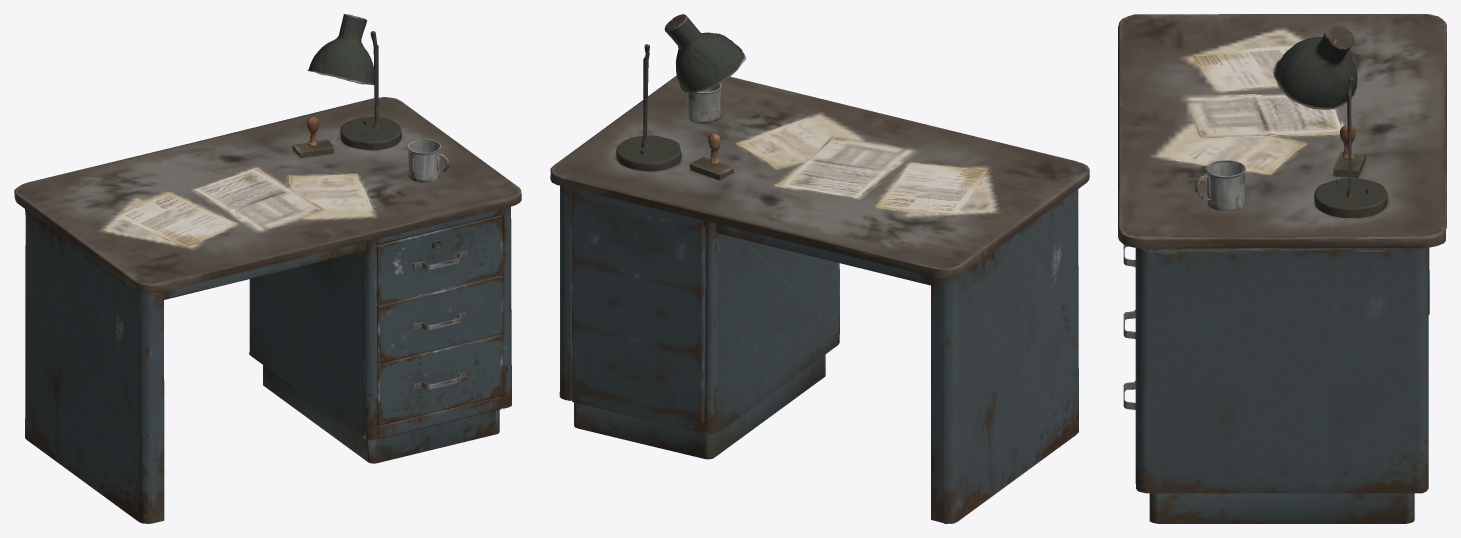
Rendered from silo81_desk.glb.
3 views of the same model, side by side, from view 1: azimuth 30°, elevation 25°; view 2: azimuth 150°, elevation 25°; view 3: azimuth 270°, elevation 25° (orthographic). The views are drawn at different scales.
Bounding box in the file's own units: 0.9497 × 0.8946 × 0.5869.
Materials: 1 (1 with a texture image).
